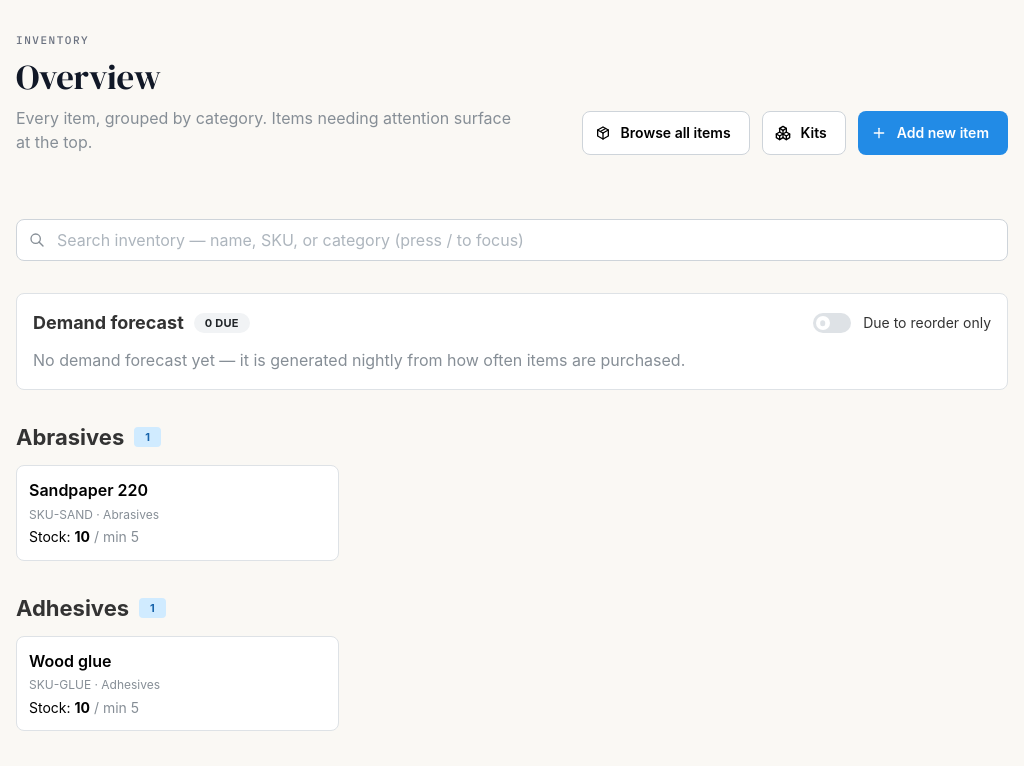
InventoryOverviewPage search › no-match state surfaces a clear-search link
This screenshot has width=1024, height=766.
Type "zzzzz" into the field labelled "Search inventory" at coordinates (512, 240), box x1=16 y1=219 x2=1008 y2=261
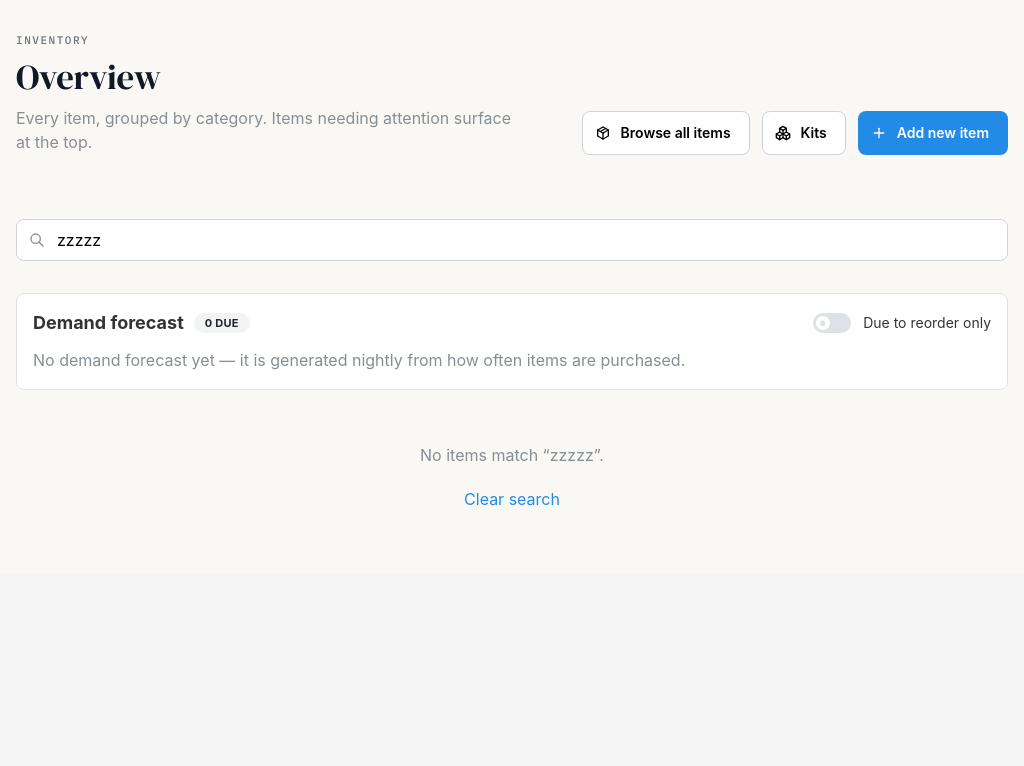
Expected: the element with test id "inventory-overview-no-matches" is shown, x1=420 y1=445 x2=604 y2=522
Click the button "Clear search" at coordinates (512, 500), box x1=464 y1=478 x2=560 y2=522
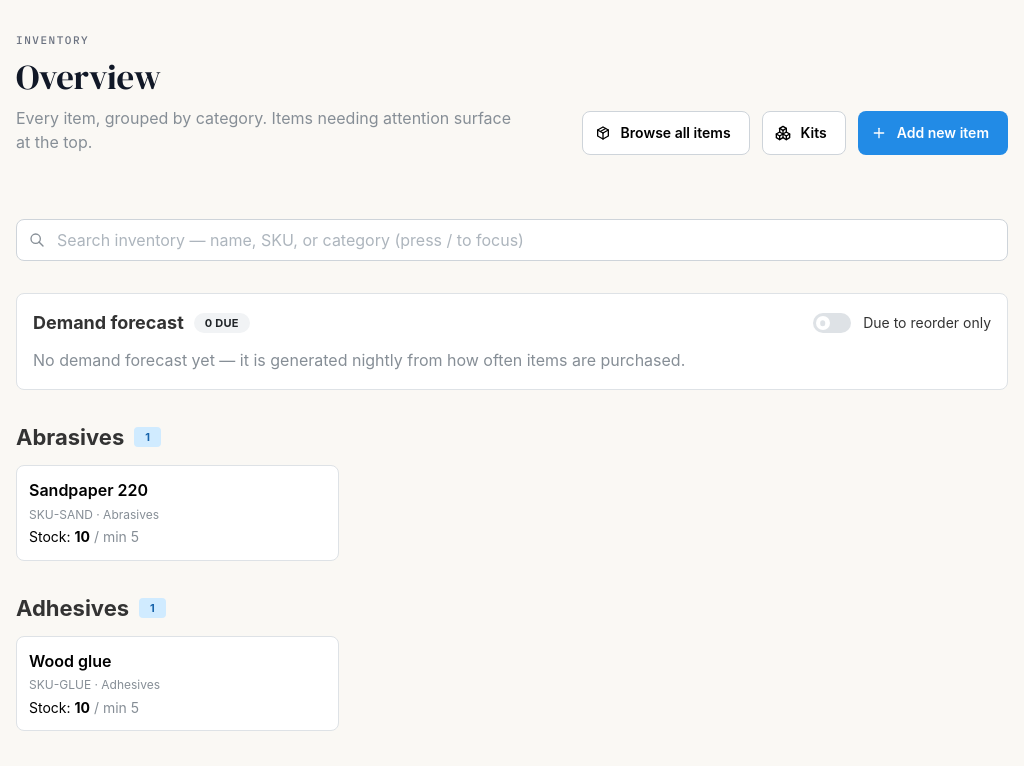
Expected: the text "Wood glue" is shown, x1=29 y1=649 x2=112 y2=673
